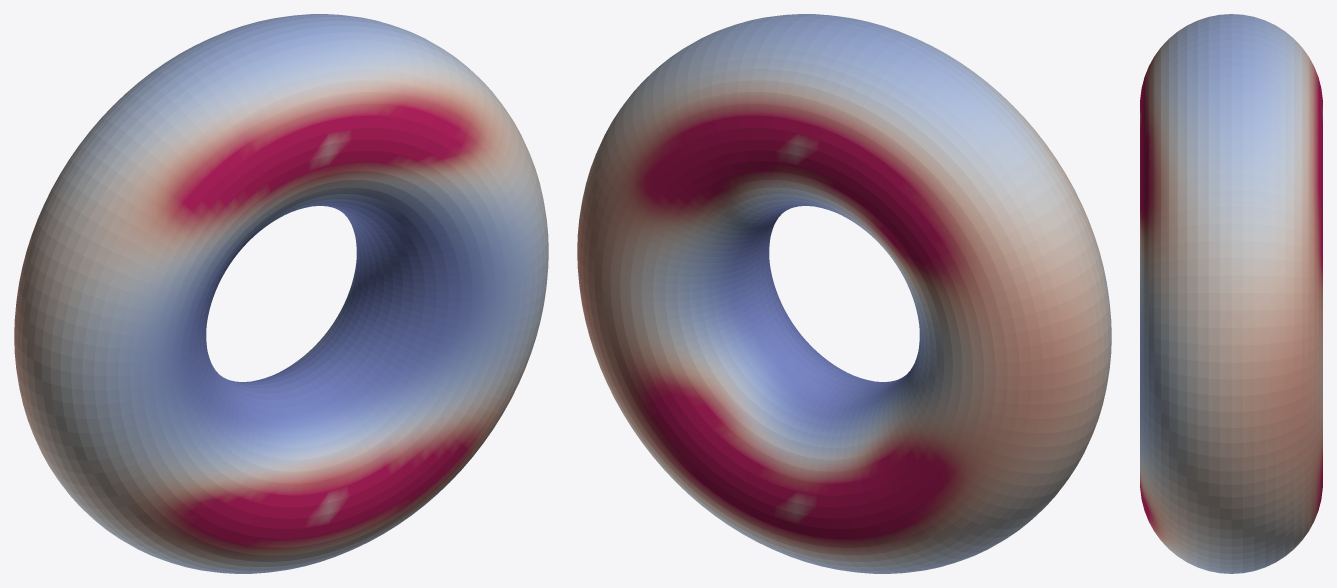
The picture shows the model from 3 angles, left to right: view 1: azimuth 30°, elevation 25°; view 2: azimuth 150°, elevation 25°; view 3: azimuth 270°, elevation 25°; orthographic projection. The views are drawn at different scales.
Parts seen in each view (by area): view 1: world; view 2: world; view 3: world.
Part boxes in pixels (x1,y1,x2,y2): world: (14, 14, 548, 573); world: (577, 14, 1111, 573); world: (1140, 14, 1322, 573).
Size of the model in its own units: 20.8 by 20.8 by 6.79.
